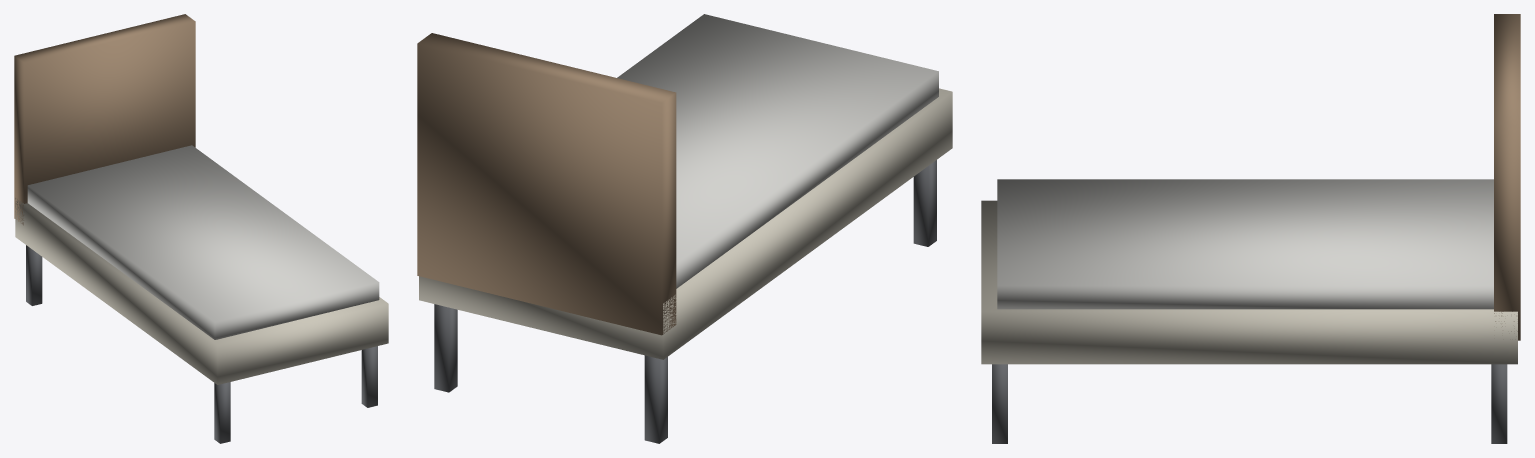
The model's file is single_bed__compact.glb.
The picture shows the model from 3 angles, left to right: view 1: azimuth 30°, elevation 25°; view 2: azimuth 150°, elevation 25°; view 3: azimuth 270°, elevation 25°; orthographic projection. The views are drawn at different scales.
Visible parts, largest first — view 1: world; view 2: world; view 3: world.
Part boxes in pixels (x1,y1,x2,y2): world: (14,14,388,443); world: (417,14,952,443); world: (981,14,1520,443).
Size of the model in its own units: 0.84 by 1.14 by 1.73.
